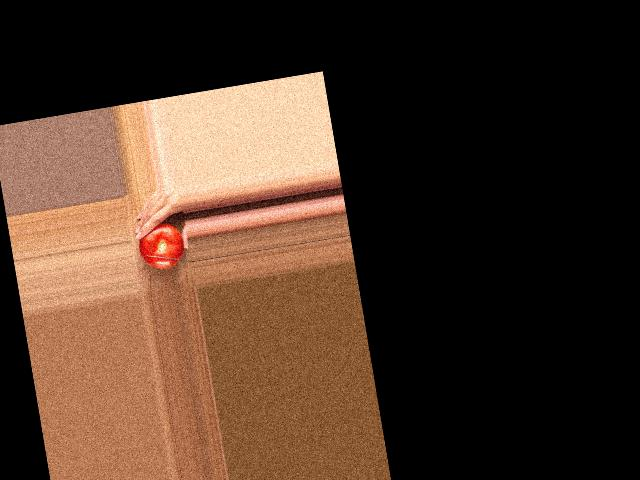tomato: (136, 220, 187, 271)
